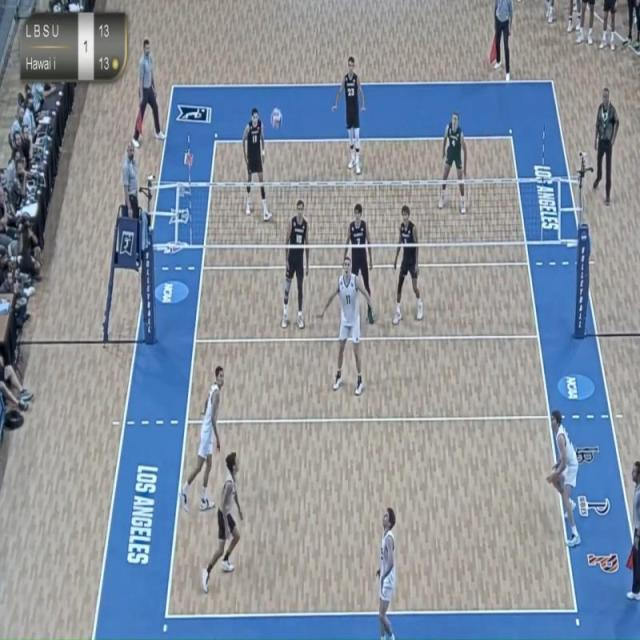volleyball: (269, 104, 285, 133)
